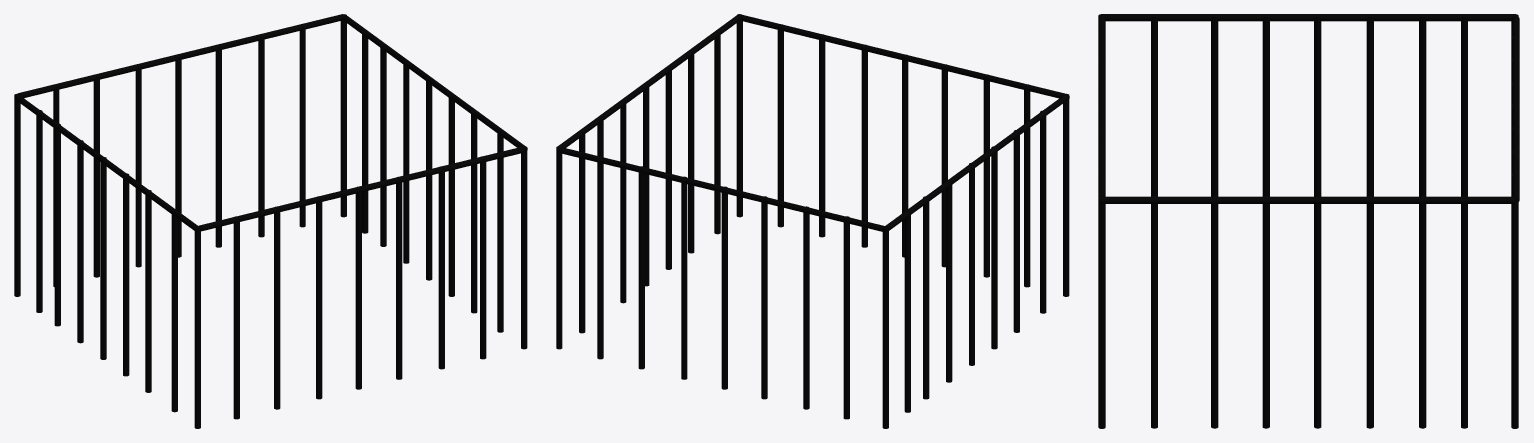
Rendered from celda.obj.
3 views of the same model, side by side, from view 1: azimuth 30°, elevation 25°; view 2: azimuth 150°, elevation 25°; view 3: azimuth 270°, elevation 25° (orthographic). The views are drawn at different scales.
Parts seen in each view (by area): view 1: castillo:castillo:pCylinder28; view 2: castillo:castillo:pCylinder28; view 3: castillo:castillo:pCylinder28.
Part boxes in pixels (<box>): castillo:castillo:pCylinder28: <box>14,14,527,428</box>; castillo:castillo:pCylinder28: <box>556,14,1069,428</box>; castillo:castillo:pCylinder28: <box>1098,14,1519,428</box>.
Bounding box in the file's own units: 24.38 × 14.11 × 23.35.
Materials: 1 (1 with a texture image).
